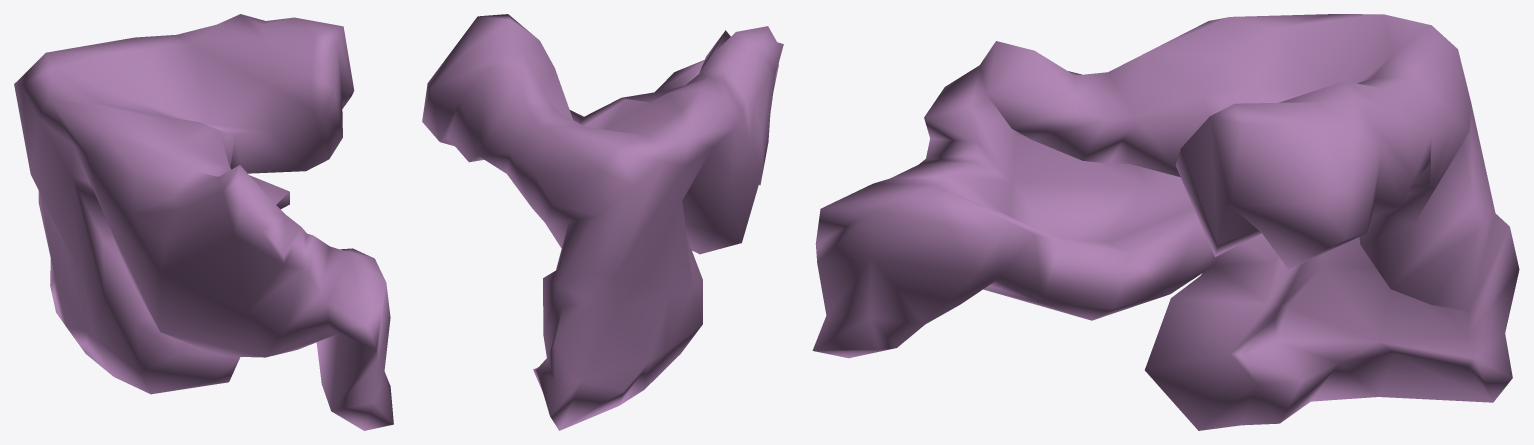
The picture shows the model from 3 angles, left to right: view 1: azimuth 30°, elevation 25°; view 2: azimuth 150°, elevation 25°; view 3: azimuth 270°, elevation 25°; orthographic projection. The views are drawn at different scales.
Visible parts, largest first — view 1: 右侧额下回三角部; view 2: 右侧额下回三角部; view 3: 右侧额下回三角部.
Part boxes in pixels (bbox=[...]): 右侧额下回三角部: bbox=[14, 14, 393, 430]; 右侧额下回三角部: bbox=[422, 14, 783, 430]; 右侧额下回三角部: bbox=[812, 14, 1519, 430].
Size of the model in its own units: 0.0302 by 0.0331 by 0.0521.
